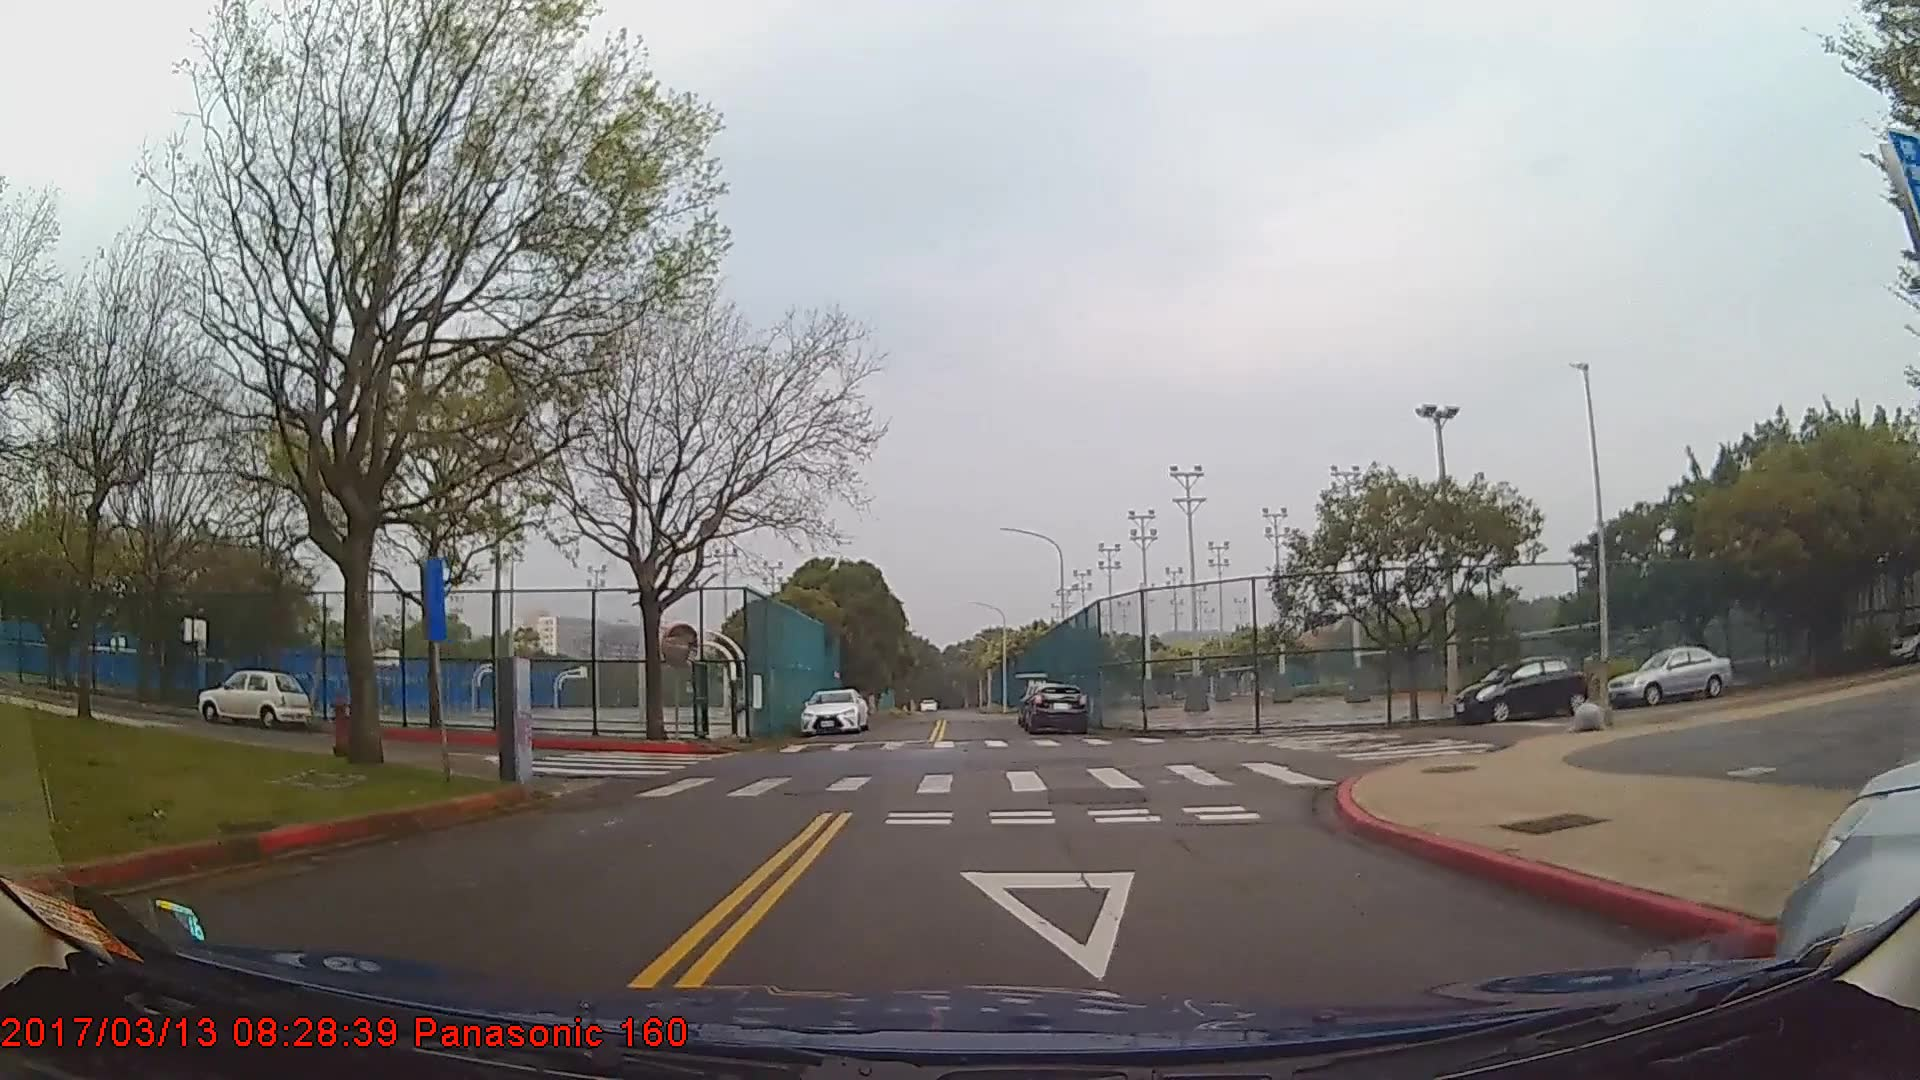vehicle: (1451, 654, 1586, 723), (1607, 644, 1737, 707), (196, 665, 311, 725), (1021, 680, 1087, 735), (796, 687, 866, 736), (1888, 621, 1920, 663)
